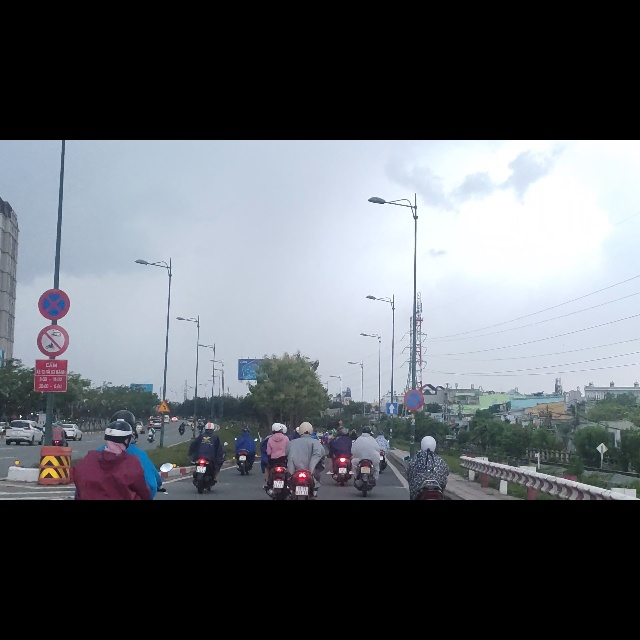bien_chi_dan: (36, 328, 70, 385), (38, 265, 70, 319), (404, 443, 424, 479), (157, 462, 170, 483), (386, 467, 397, 488)
